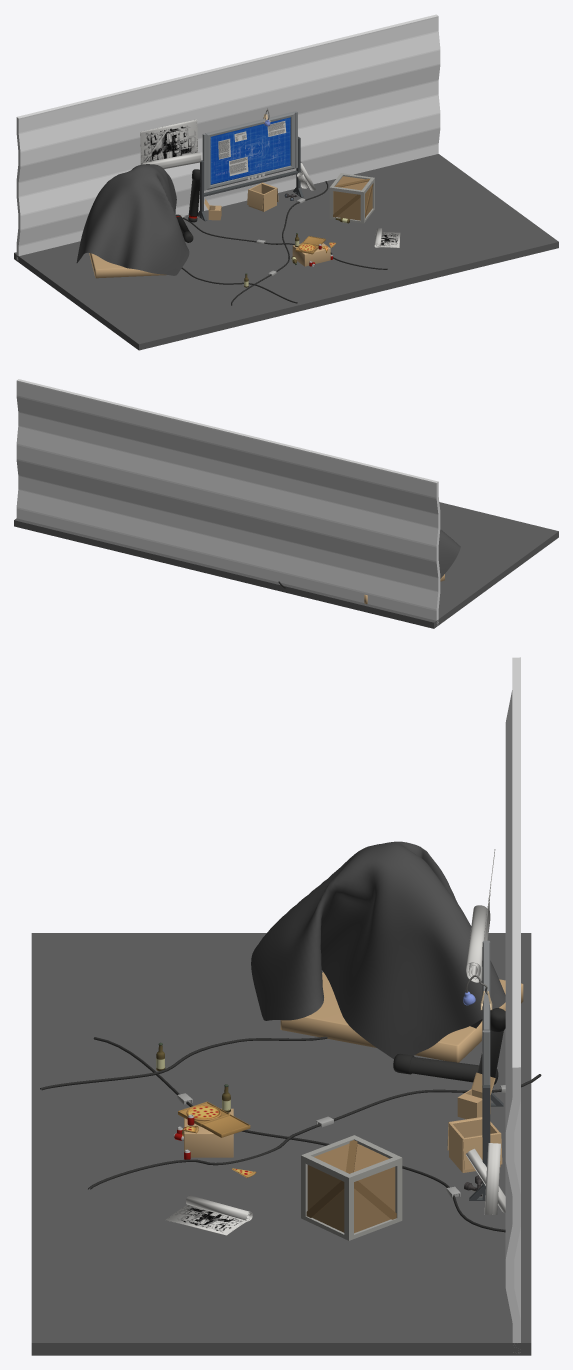
Rendered from Lobby.fbx.
The picture shows the model from 3 angles, top to bottom: view 1: azimuth 30°, elevation 25°; view 2: azimuth 150°, elevation 25°; view 3: azimuth 270°, elevation 25°; orthographic projection. The views are drawn at different scales.
Parts seen in each view (by area): view 1: Wall, Chao, Cloth, Blueprint Board, BezierCurve.005, Cube, Stickers, Cube.012, box, Cube.008, Cylinder.010, BezierCurve.002; view 2: Wall, Chao, Cloth; view 3: Chao, Cloth, Wall, Cube, Cube.012, Blueprint Board, BezierCurve.002, box, Cylinder.009, BezierCurve.005, Wire.001, Cube.008 (+7 smaller).
Part boxes in pixels (x1,y1,x2,y2): Wall: [16, 14, 440, 260]; Chao: [14, 154, 558, 350]; Cloth: [76, 164, 189, 275]; Blueprint Board: [197, 111, 303, 221]; BezierCurve.005: [140, 119, 201, 169]; Cube: [329, 173, 374, 223]; Stickers: [218, 121, 286, 179]; Cube.012: [89, 253, 166, 278]; box: [247, 182, 278, 211]; Cube.008: [292, 243, 330, 266]; Cylinder.010: [188, 169, 200, 222]; BezierCurve.002: [374, 228, 400, 247]; Wall: [16, 379, 440, 625]; Chao: [14, 502, 558, 628]; Cloth: [438, 529, 460, 578]; Chao: [31, 933, 531, 1355]; Cloth: [251, 841, 505, 1058]; Wall: [505, 657, 520, 1352]; Cube: [301, 1135, 402, 1240]; Cube.012: [280, 972, 523, 1062]; Blueprint Board: [469, 940, 503, 1200]; BezierCurve.002: [166, 1195, 252, 1235]; box: [447, 1117, 502, 1172]; Cylinder.009: [393, 1053, 498, 1084]; BezierCurve.005: [466, 849, 495, 982]; Wire.001: [88, 1074, 541, 1189]; Cube.008: [184, 1108, 233, 1157].
Bounding box in the file's own units: 712 × 444 × 1355.
